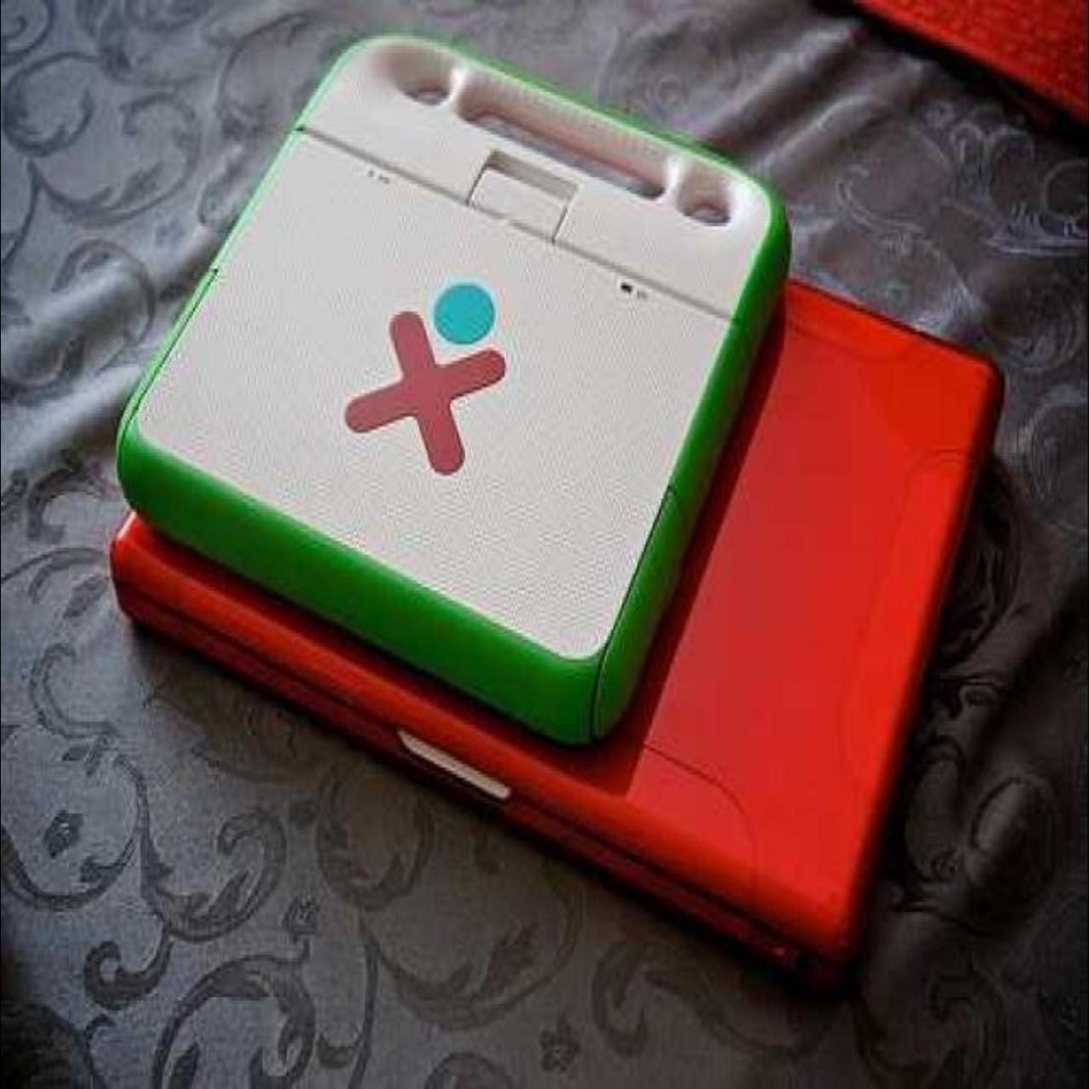laptop: (168, 61, 767, 681)
